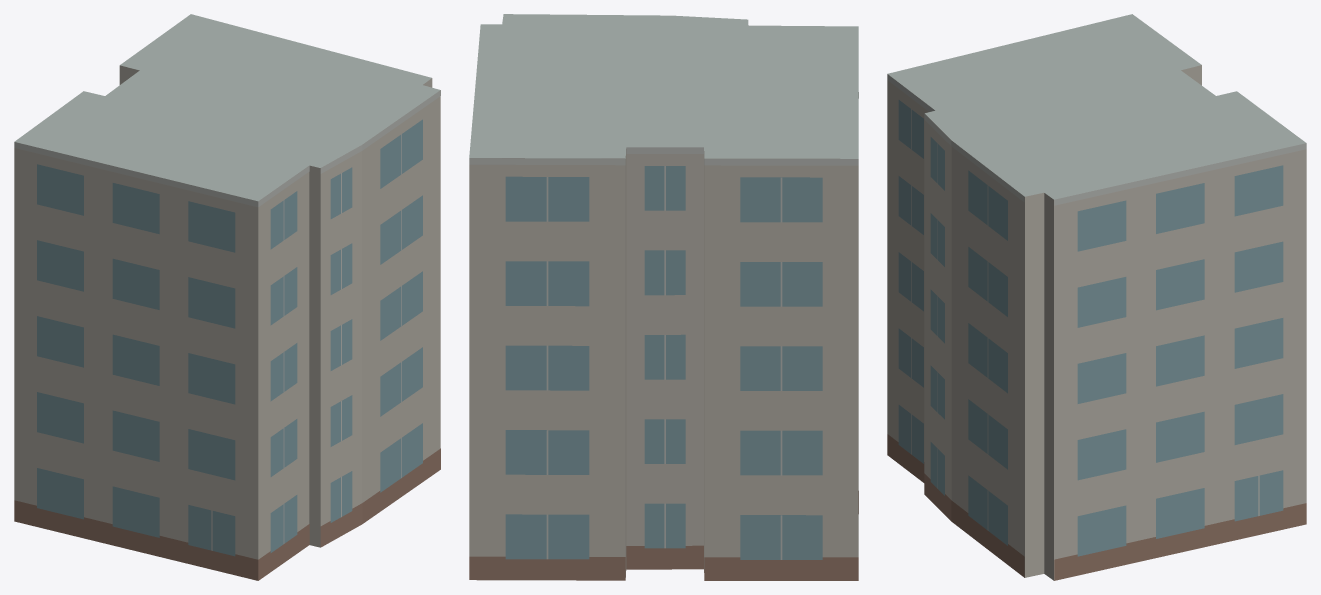
Rendered from survey-upis-32658481.glb.
The picture shows the model from 3 angles, left to right: view 1: azimuth 30°, elevation 25°; view 2: azimuth 150°, elevation 25°; view 3: azimuth 270°, elevation 25°; orthographic projection. The views are drawn at different scales.
Visible parts, largest first — view 1: survey-upis-32658481.tmp; view 2: survey-upis-32658481.tmp; view 3: survey-upis-32658481.tmp.
Boxes of the visible parts, x1=… form: survey-upis-32658481.tmp: x1=14, y1=14, x2=440, y2=580; survey-upis-32658481.tmp: x1=469, y1=14, x2=858, y2=580; survey-upis-32658481.tmp: x1=887, y1=14, x2=1306, y2=580.
Bounding box in the file's own units: 15.99 × 15.3 × 15.26.
